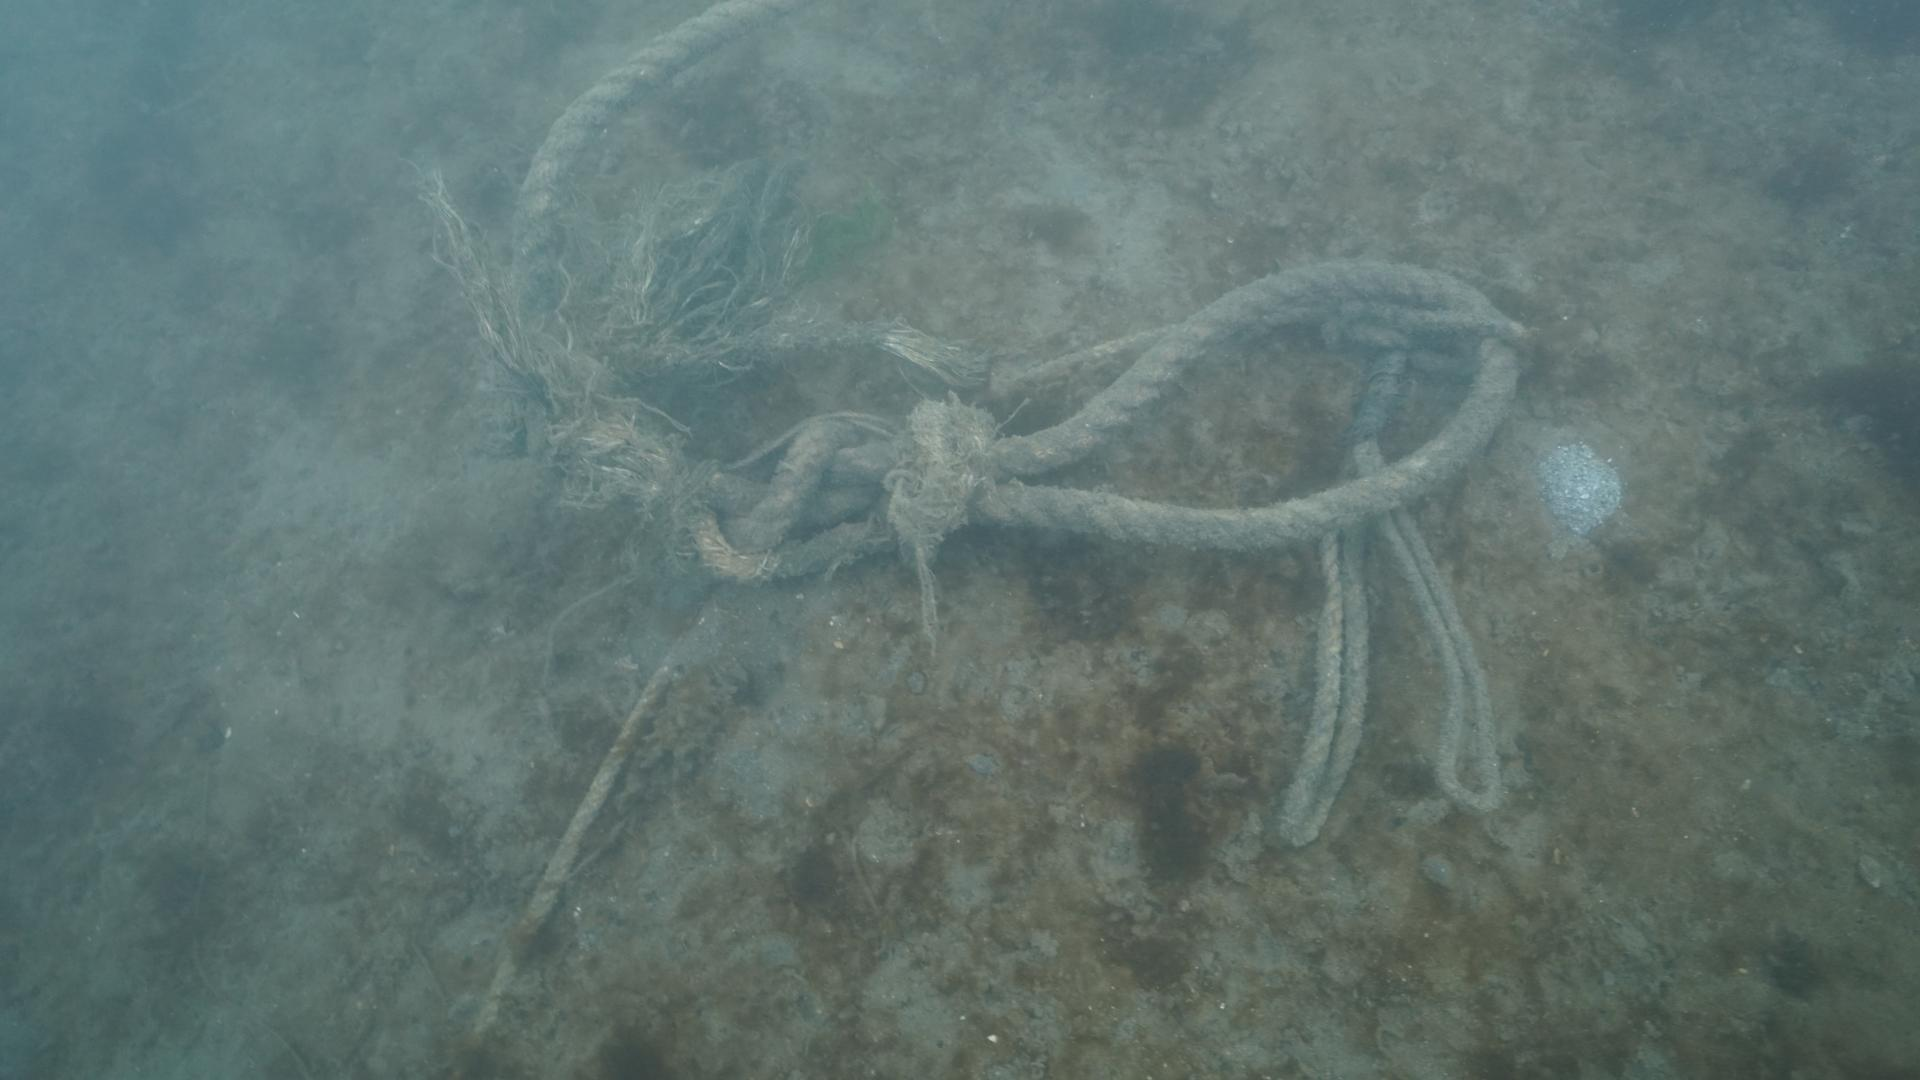bundle of ropes: (415, 0, 1527, 856)
